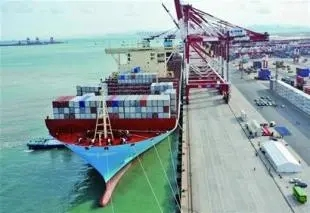Cargoship: (41, 29, 184, 188)
